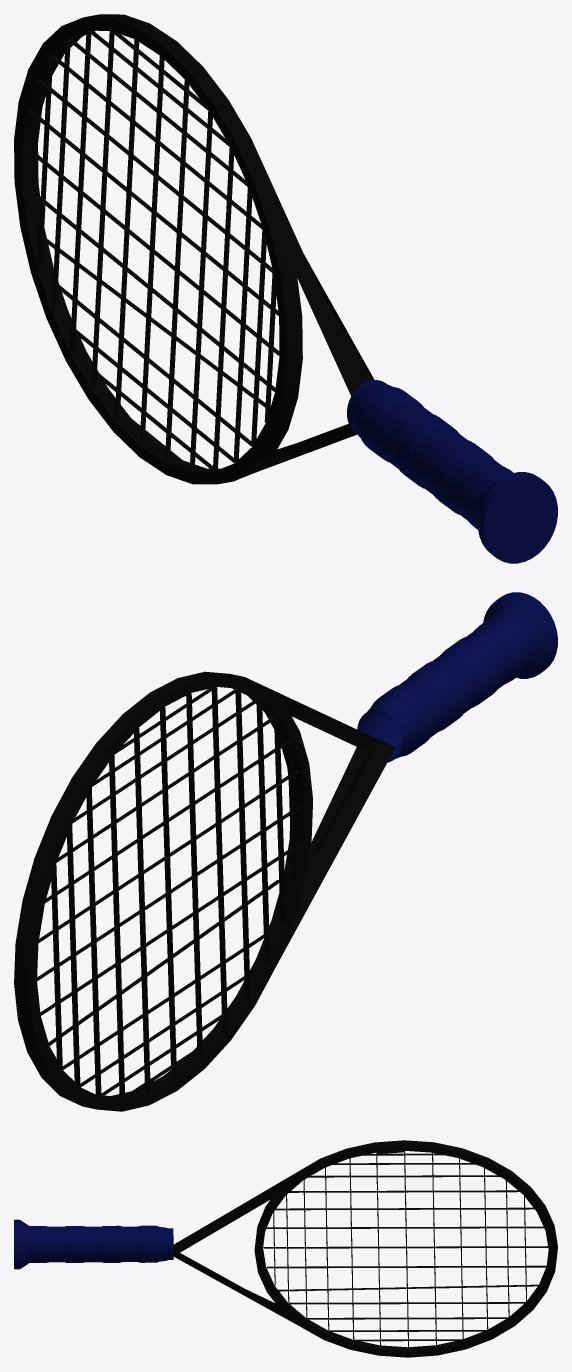
3 views of the same model, one above another, from view 1: azimuth 30°, elevation 25°; view 2: azimuth 150°, elevation 25°; view 3: azimuth 270°, elevation 25° (orthographic). The views are drawn at different scales.
Parts seen in each view (by area): view 1: Cilindro_2; view 2: Cilindro_2; view 3: Cilindro_2.
Part boxes in pixels (x1,y1,x2,y2): Cilindro_2: (14,14,557,563); Cilindro_2: (14,592,557,1111); Cilindro_2: (14,1140,557,1357).
Bounding box in the file's own units: 0.3792 × 2.01 × 4.55.
